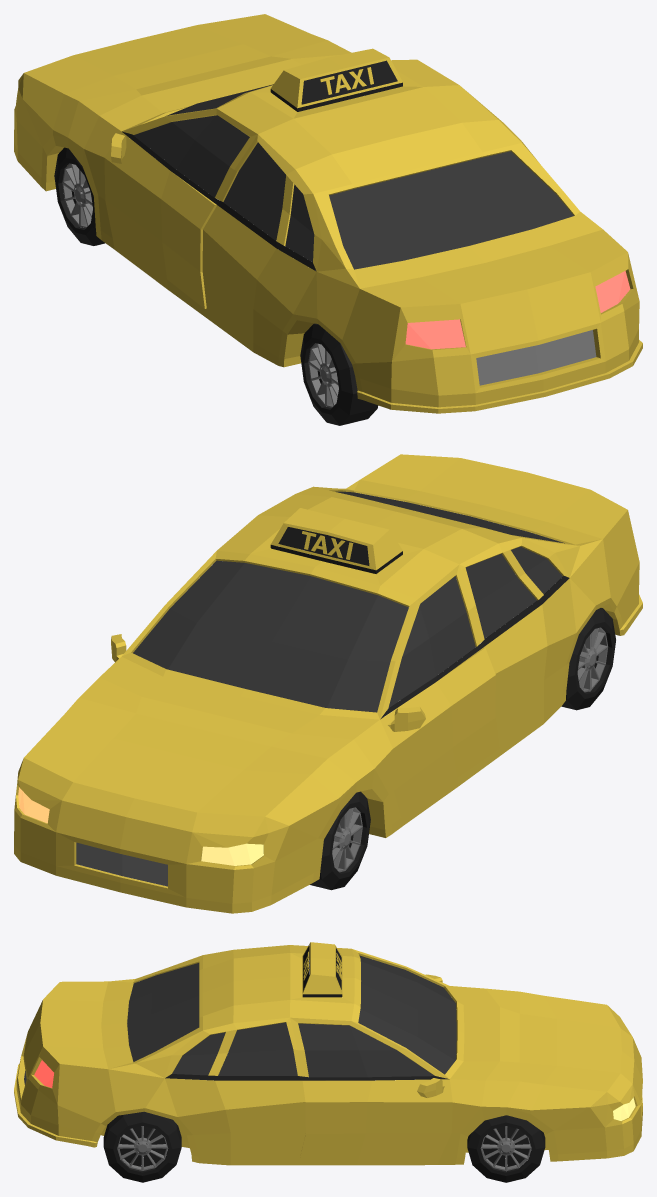
File: Taxi.glb
3 renders of one model, top to bottom at view 1: azimuth 30°, elevation 25°; view 2: azimuth 150°, elevation 25°; view 3: azimuth 270°, elevation 25°, orthographic. The views are drawn at different scales.
Parts seen in each view (by area): view 1: Yellow, Windows, Black, Grey, TailLights; view 2: Yellow, Windows, Black, Grey, Headlights; view 3: Yellow, Windows, Black, Grey.
Part boxes in pixels (x1,y1,x2,y2): Yellow: [14, 14, 642, 413]; Windows: [134, 84, 573, 269]; Black: [54, 60, 402, 425]; Grey: [62, 163, 596, 407]; TailLights: [405, 271, 630, 349]; Yellow: [14, 454, 642, 913]; Windows: [133, 491, 564, 712]; Black: [270, 527, 615, 890]; Grey: [76, 627, 608, 886]; Headlights: [18, 787, 263, 865]; Yellow: [14, 942, 642, 1165]; Windows: [127, 955, 456, 1077]; Black: [103, 945, 545, 1182]; Grey: [24, 1071, 531, 1170].
Bounding box in the file's own units: 1.81 × 1.31 × 4.22.
